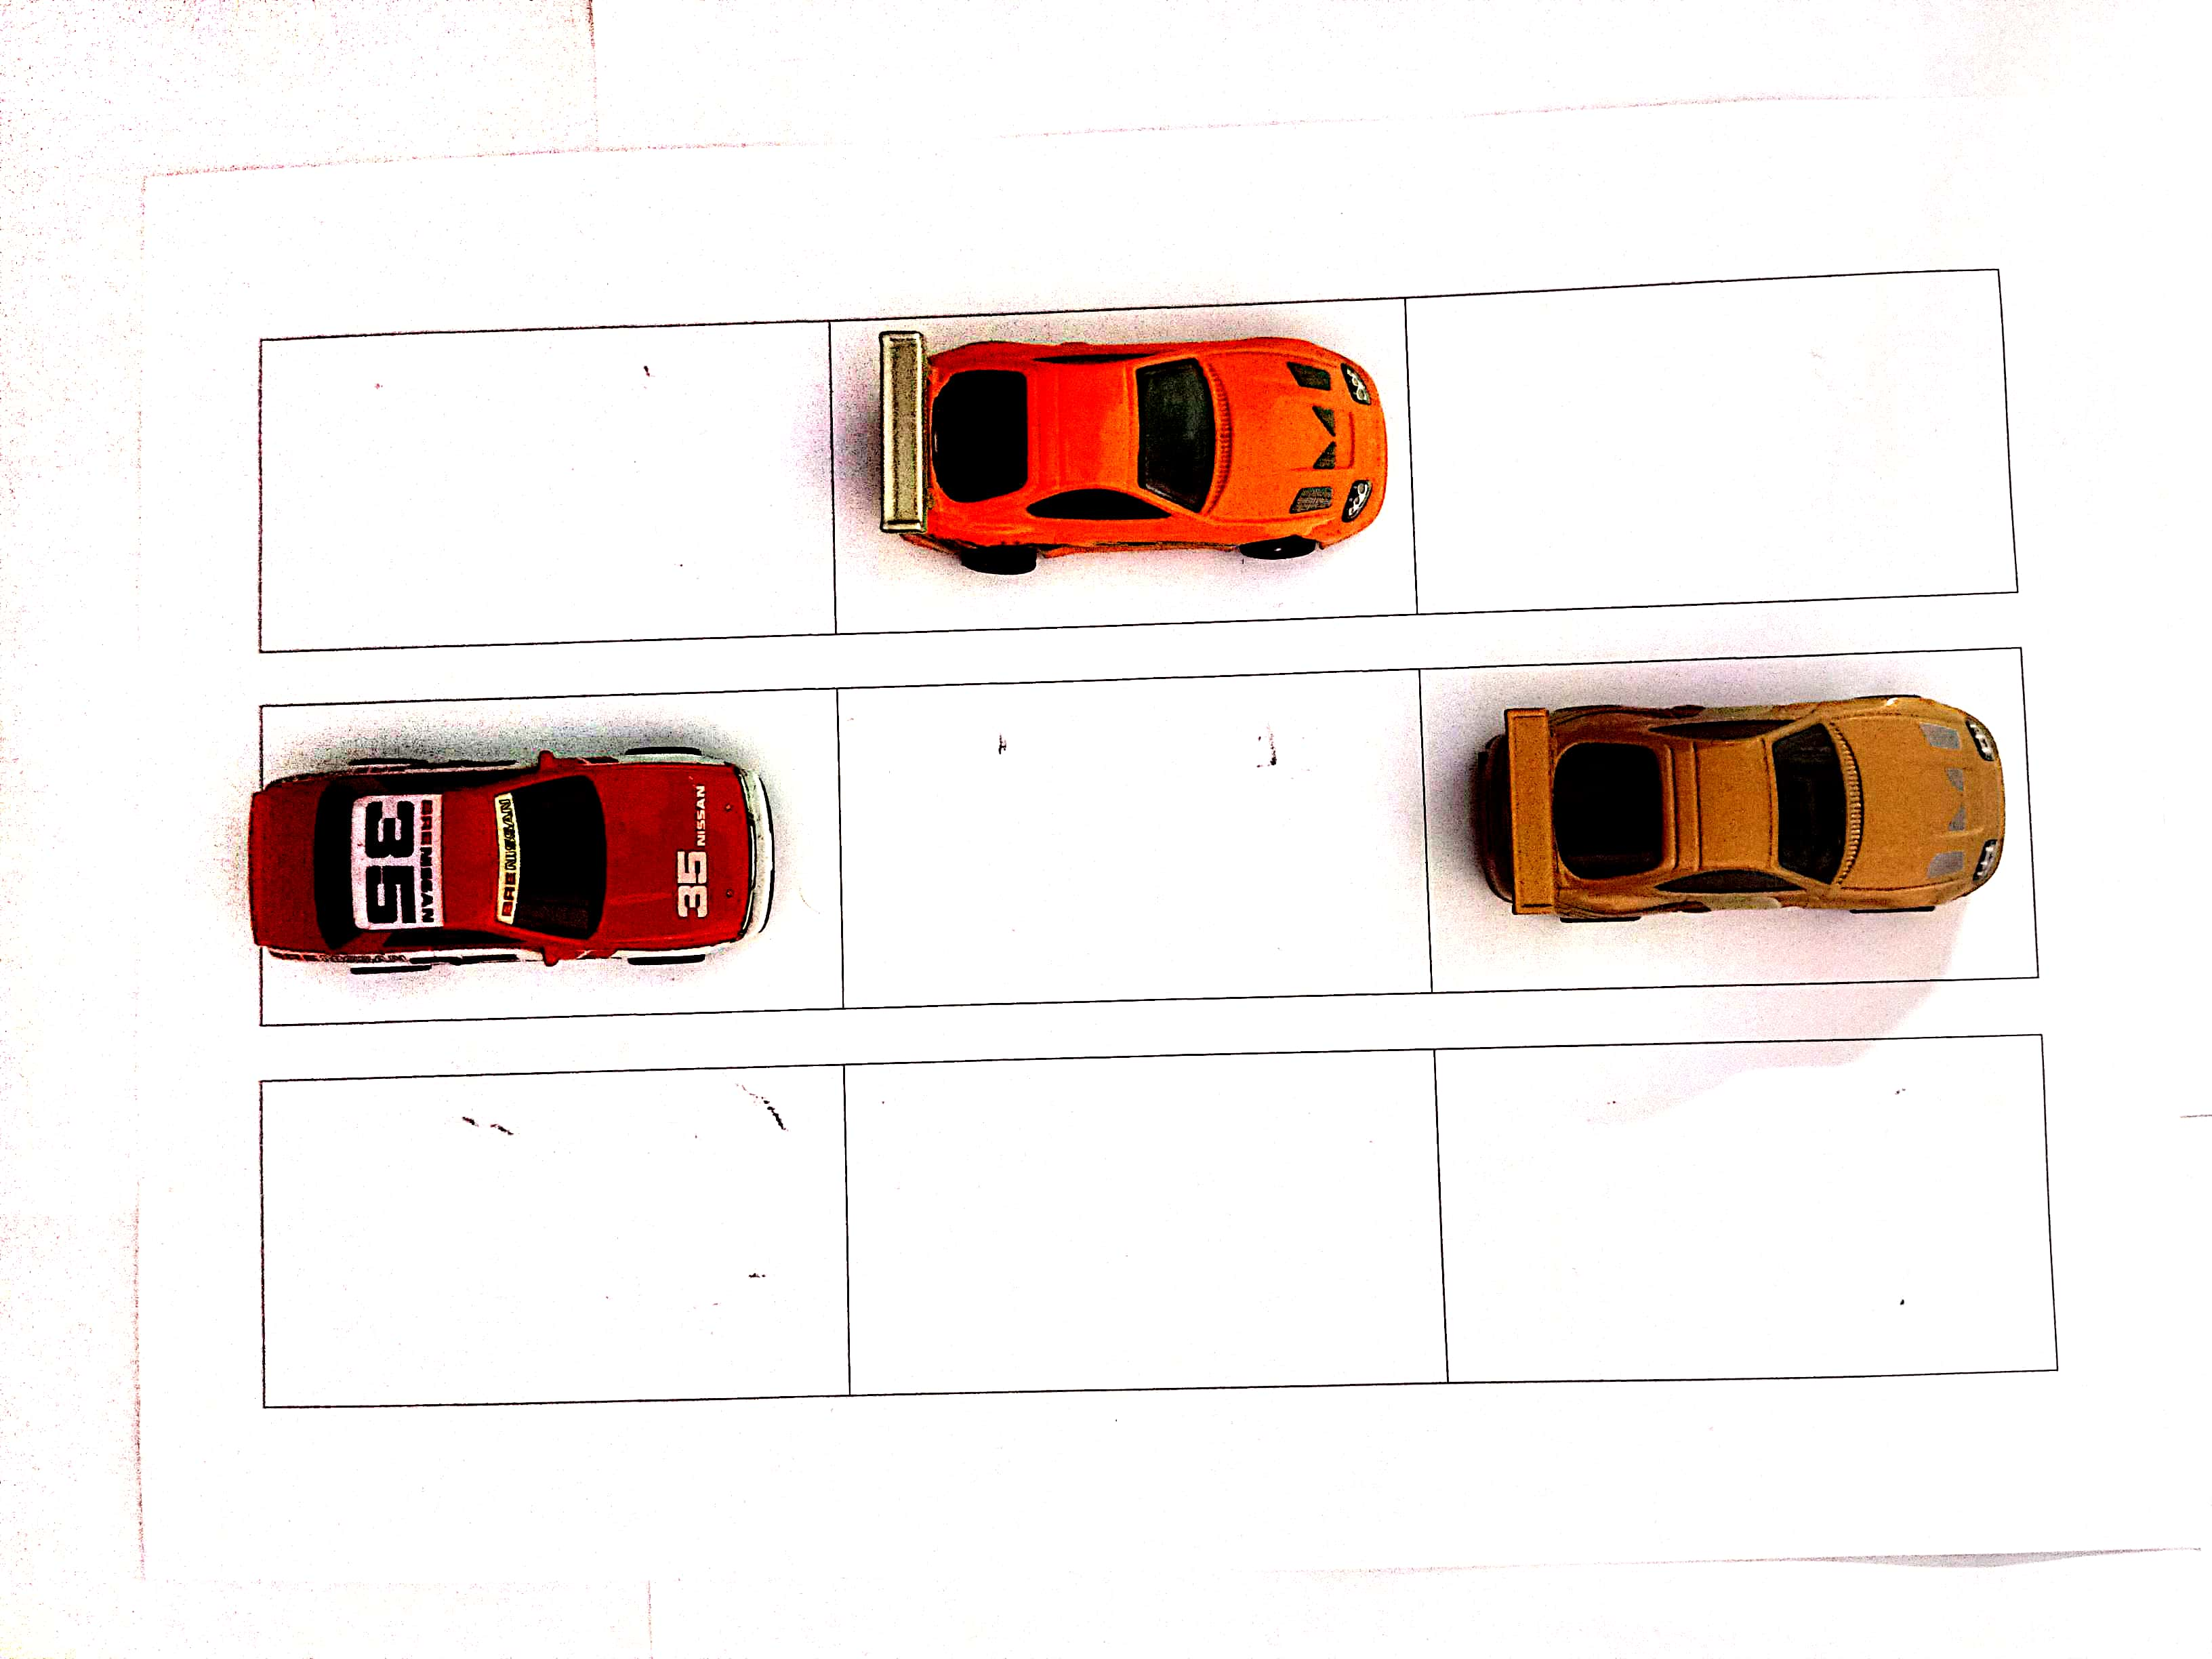Busy: (1416, 666, 2033, 992), (831, 301, 1402, 633), (265, 706, 836, 1011)
Free: (1451, 1037, 2041, 1378), (848, 1065, 1458, 1389), (1420, 275, 1994, 615), (843, 683, 1425, 997), (256, 1084, 848, 1389), (260, 335, 826, 631)
